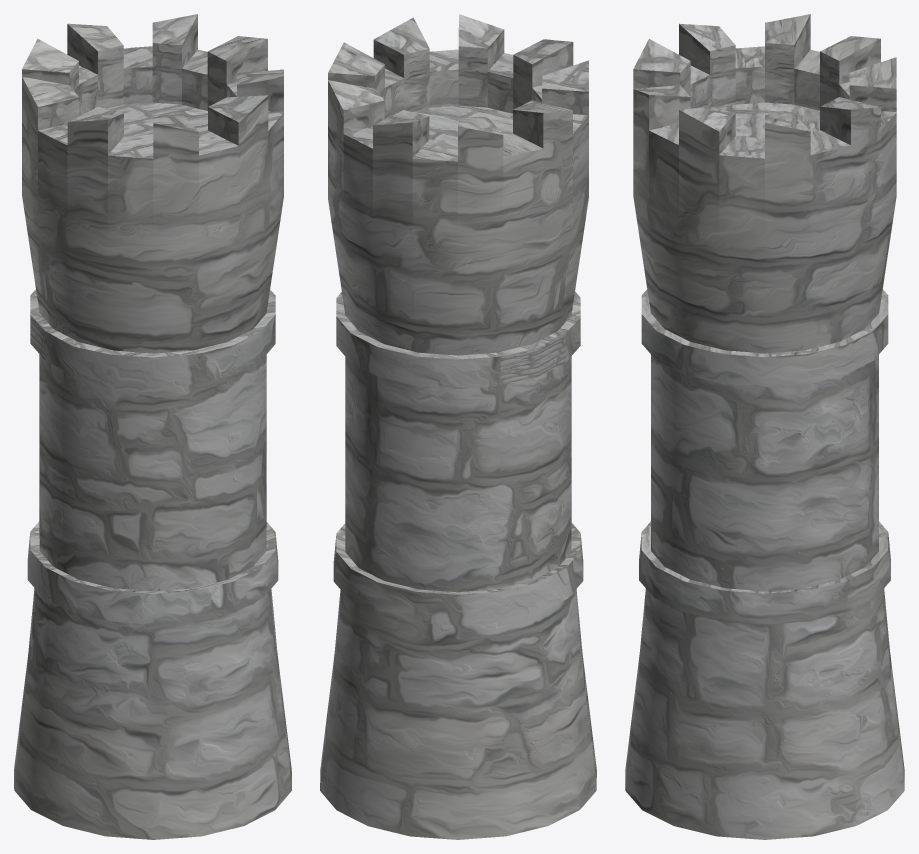
The model's file is Tower_01.FBX.
The picture shows the model from 3 angles, left to right: view 1: azimuth 30°, elevation 25°; view 2: azimuth 150°, elevation 25°; view 3: azimuth 270°, elevation 25°; orthographic projection.
Parts seen in each view (by area): view 1: Object025; view 2: Object025; view 3: Object025.
Part boxes in pixels (x1,y1,x2,y2): Object025: (14,14,291,839); Object025: (320,14,596,839); Object025: (625,14,904,839).
Size of the model in its own units: 188 by 527 by 187.
